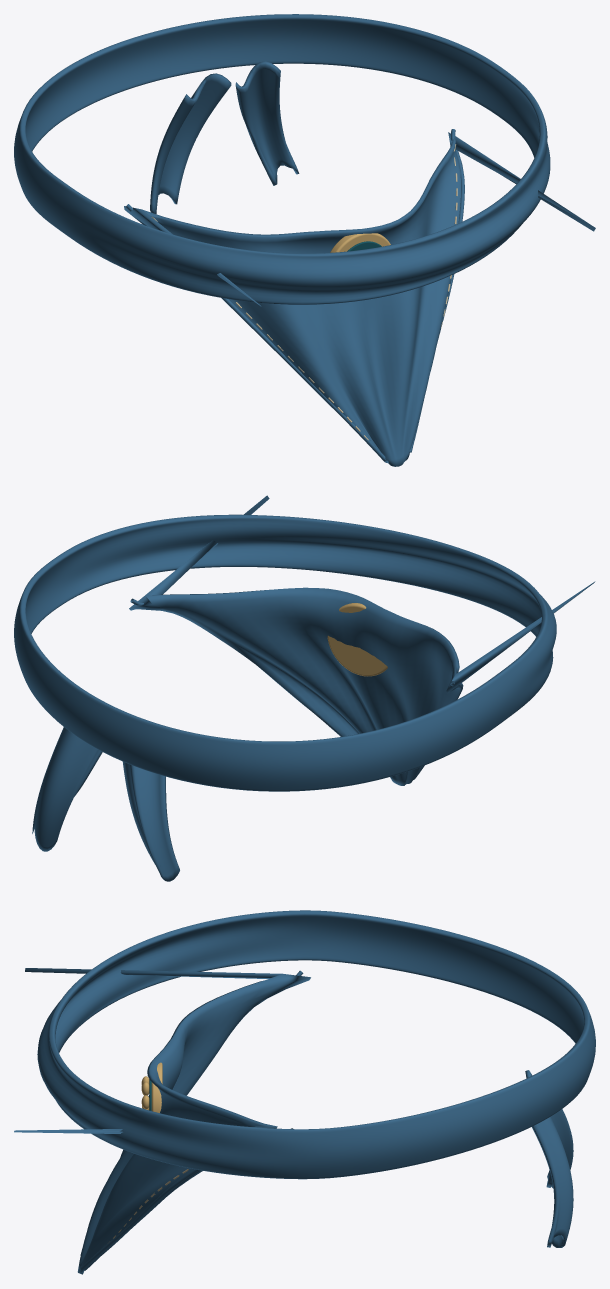
Rendered from nemo_travel_outfit_v4.glb.
The picture shows the model from 3 angles, top to bottom: view 1: azimuth 30°, elevation 25°; view 2: azimuth 150°, elevation 25°; view 3: azimuth 270°, elevation 25°; orthographic projection.
Visible parts, largest first — view 1: nemo_travel_outfit_v4__WovenCloth_TravelBlue, nemo_travel_outfit_v4__SatinBrass_PawBrooch; view 2: nemo_travel_outfit_v4__WovenCloth_TravelBlue, nemo_travel_outfit_v4__SatinBrass_PawBrooch; view 3: nemo_travel_outfit_v4__WovenCloth_TravelBlue, nemo_travel_outfit_v4__SatinBrass_PawBrooch.
Part boxes in pixels (bbox=[...]): nemo_travel_outfit_v4__WovenCloth_TravelBlue: bbox=[14, 14, 595, 466]; nemo_travel_outfit_v4__SatinBrass_PawBrooch: bbox=[330, 233, 390, 252]; nemo_travel_outfit_v4__WovenCloth_TravelBlue: bbox=[14, 495, 595, 881]; nemo_travel_outfit_v4__SatinBrass_PawBrooch: bbox=[327, 603, 387, 676]; nemo_travel_outfit_v4__WovenCloth_TravelBlue: bbox=[14, 910, 595, 1274]; nemo_travel_outfit_v4__SatinBrass_PawBrooch: bbox=[141, 1062, 162, 1112].
Size of the model in its own units: 1.02 by 0.5504 by 1.11.
